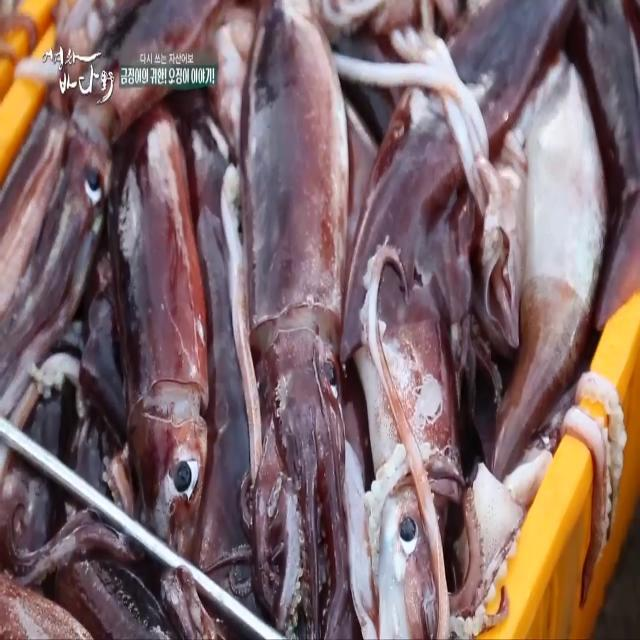squid: (241, 0, 350, 640), (345, 83, 464, 640), (106, 104, 228, 640)
